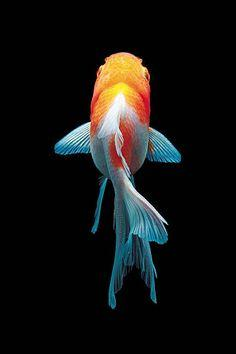goldfish: (42, 38, 209, 292)
